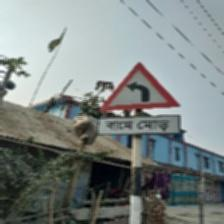Left-Turn: (97, 62, 182, 137)
